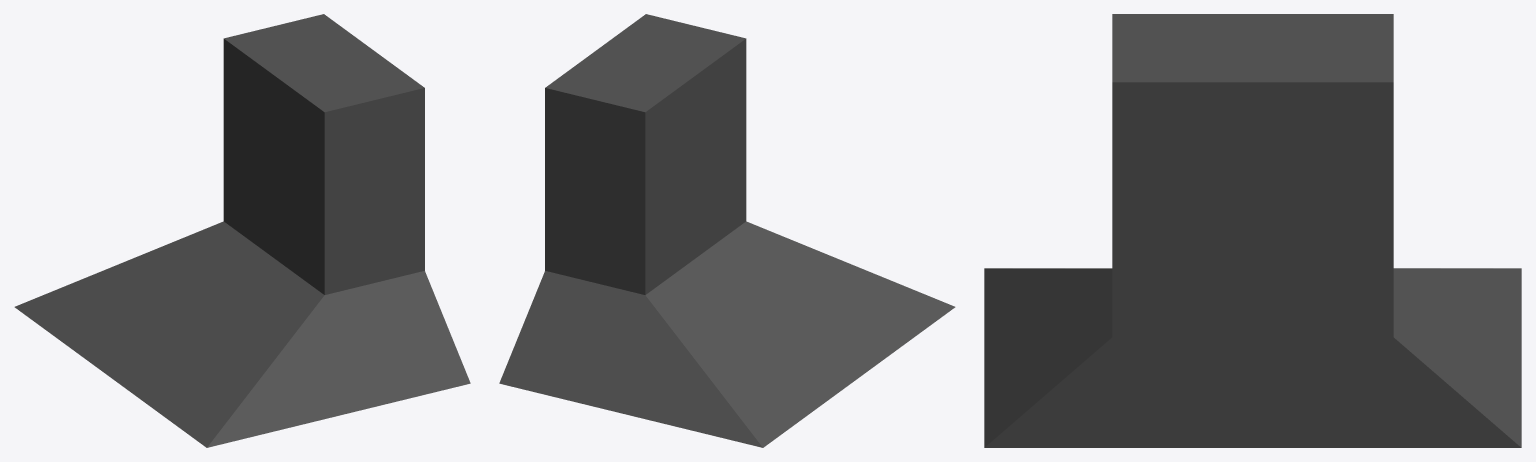
Rendered from Chimney.fbx.
The picture shows the model from 3 angles, left to right: view 1: azimuth 30°, elevation 25°; view 2: azimuth 150°, elevation 25°; view 3: azimuth 270°, elevation 25°; orthographic projection. The views are drawn at different scales.
Visible parts, largest first — view 1: Cube; view 2: Cube; view 3: Cube.
Part boxes in pixels (x1,y1,x2,y2): Cube: (14,14,470,447); Cube: (499,14,955,447); Cube: (984,14,1521,447).
Size of the model in its own units: 119 by 113 by 150.
Materials: 1 (1 with a texture image).
